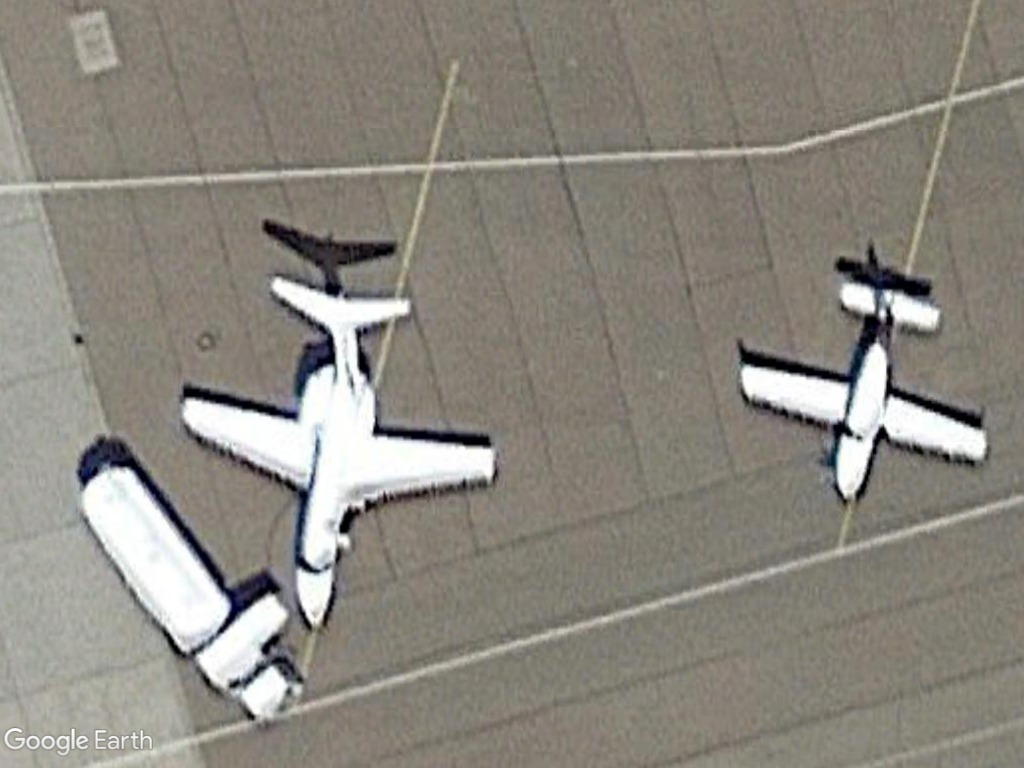chartered: (162, 268, 512, 640)
trainer: (739, 268, 992, 506)
